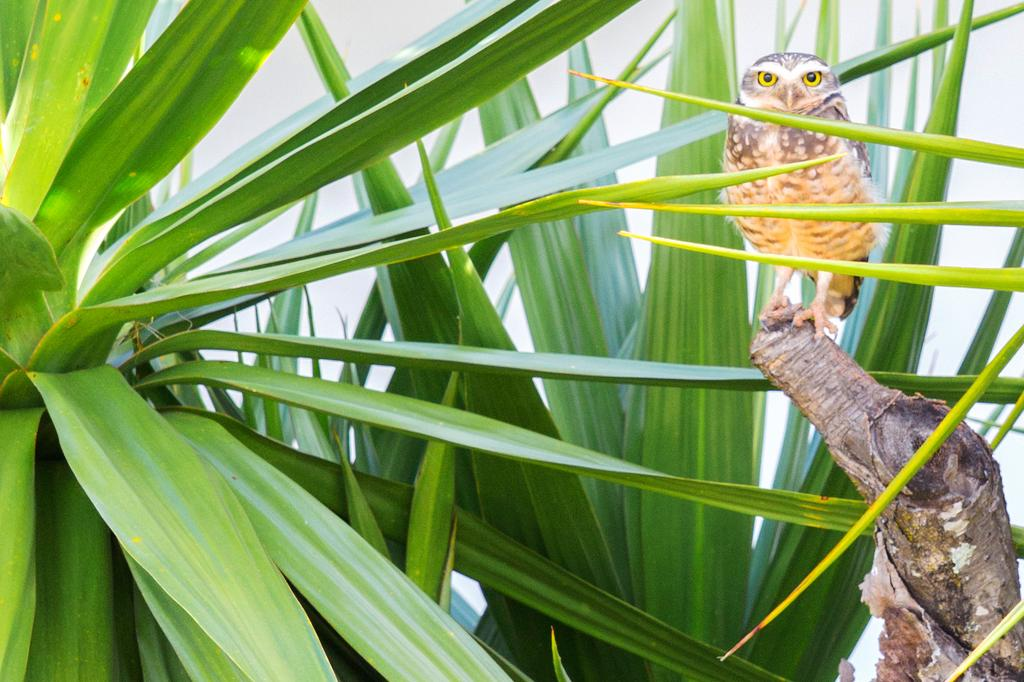Owl: (716, 38, 888, 364)
